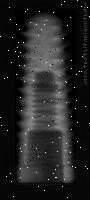Implant Direct: (10, 9, 76, 185)
